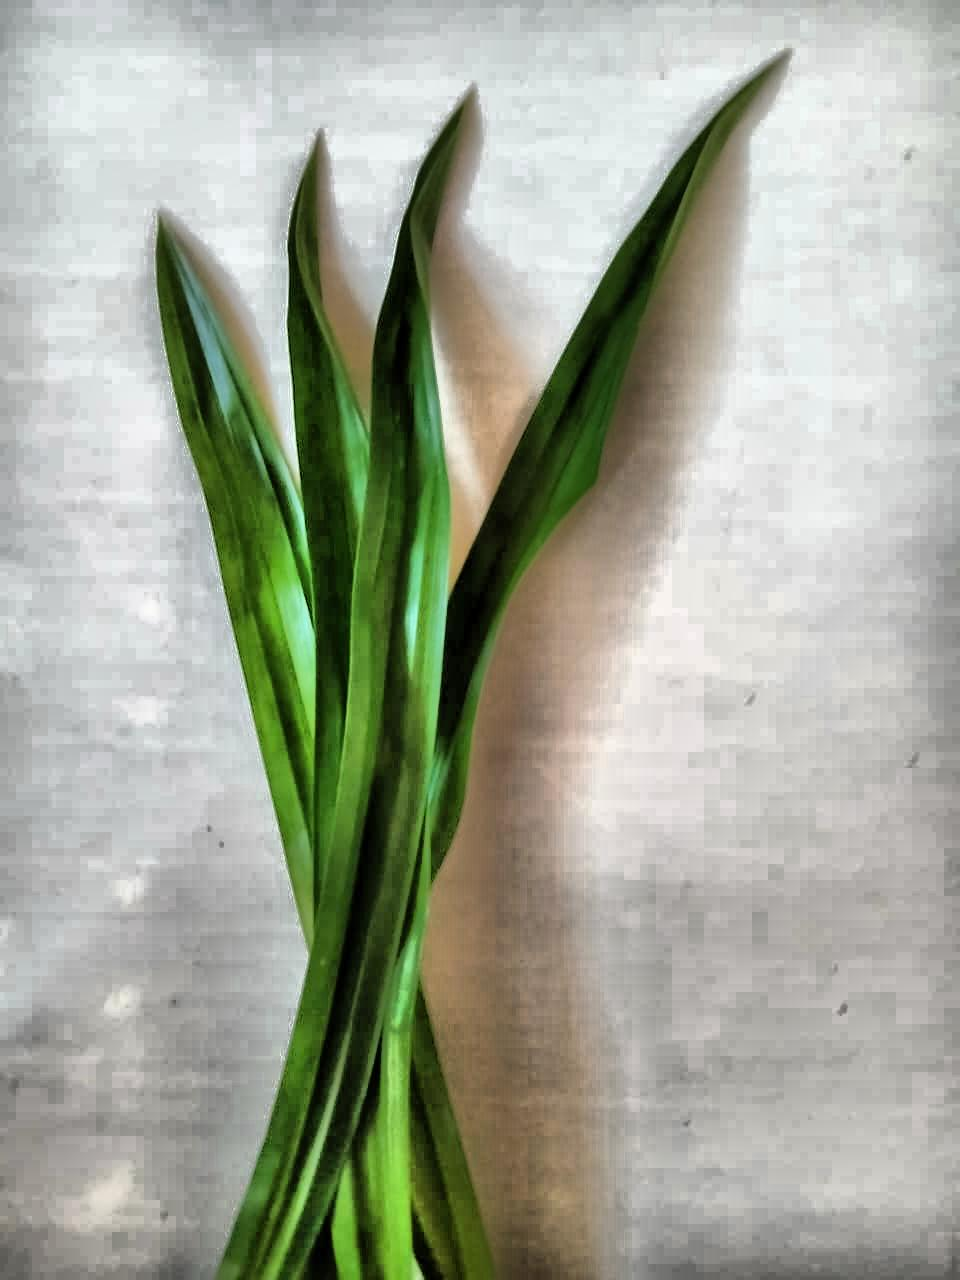daun pandan: (156, 63, 775, 1279)
